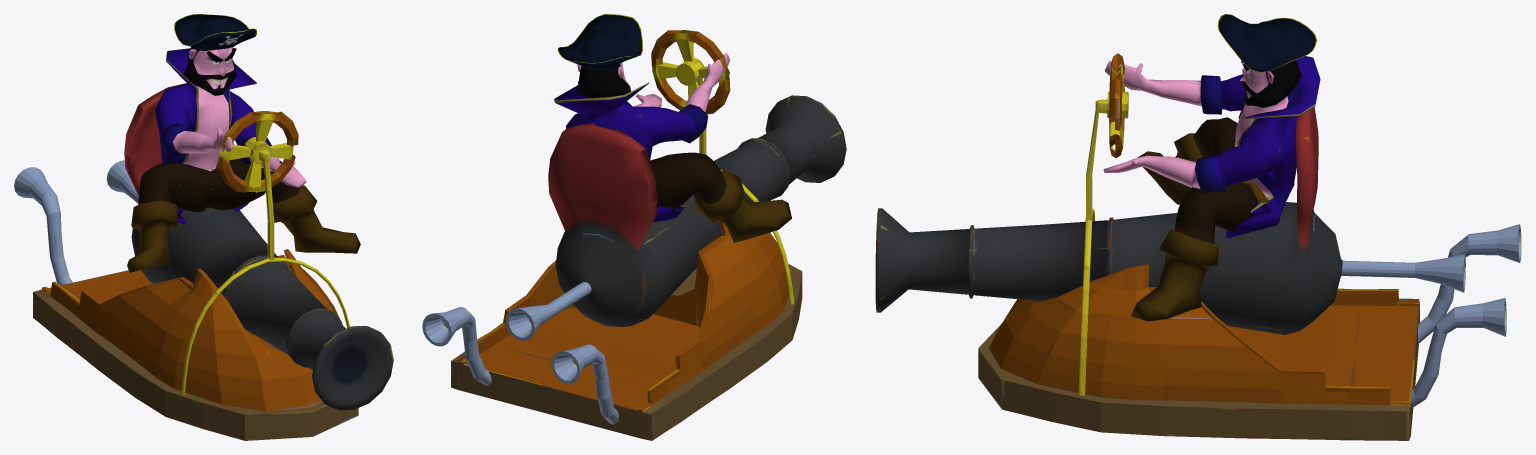
The model's file is pirataGiroDER_000524.obj.
3 renders of one model, left to right at view 1: azimuth 30°, elevation 25°; view 2: azimuth 150°, elevation 25°; view 3: azimuth 270°, elevation 25°, orthographic. The views are drawn at different scales.
Visible parts, largest first — view 1: carro_pirata, Pirata_PirataH; view 2: carro_pirata, Pirata_PirataH; view 3: carro_pirata, Pirata_PirataH.
Part boxes in pixels (box(x1,y1,x2,y2)): carro_pirata: box(14, 83, 393, 440); Pirata_PirataH: box(127, 14, 360, 272); carro_pirata: box(422, 30, 846, 440); Pirata_PirataH: box(554, 14, 791, 242); carro_pirata: box(875, 53, 1521, 440); Pirata_PirataH: box(1103, 14, 1320, 321).
Size of the model in its own units: 5.69 by 7.68 by 12.1.
Materials: 2 (2 with a texture image).
